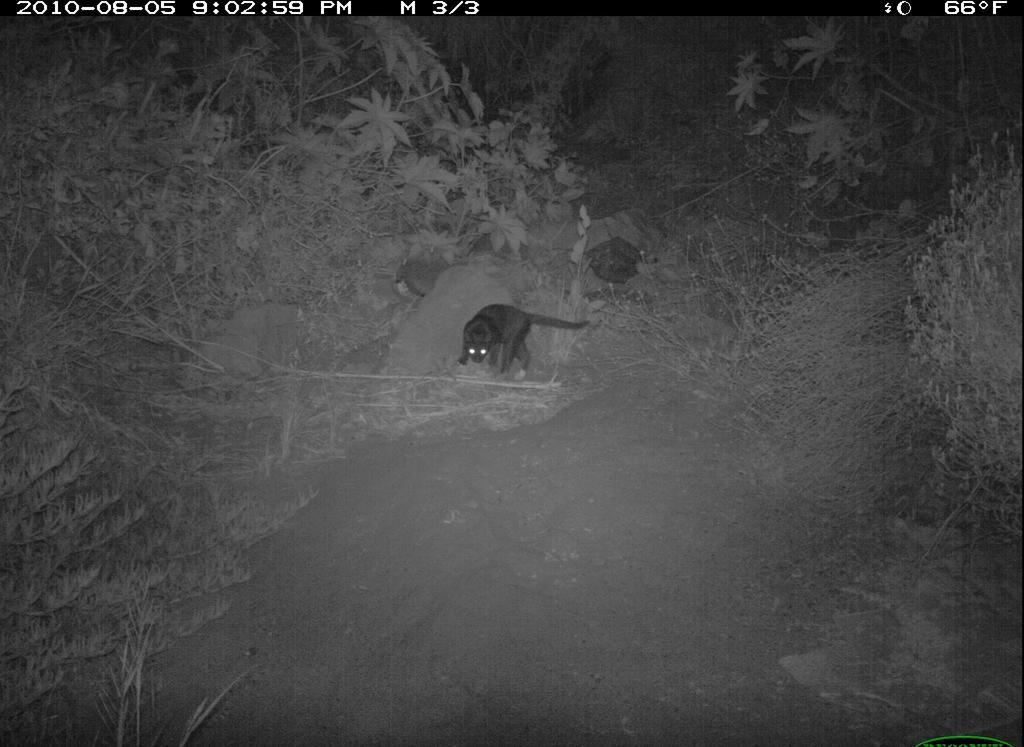cat: (446, 295, 601, 381)
